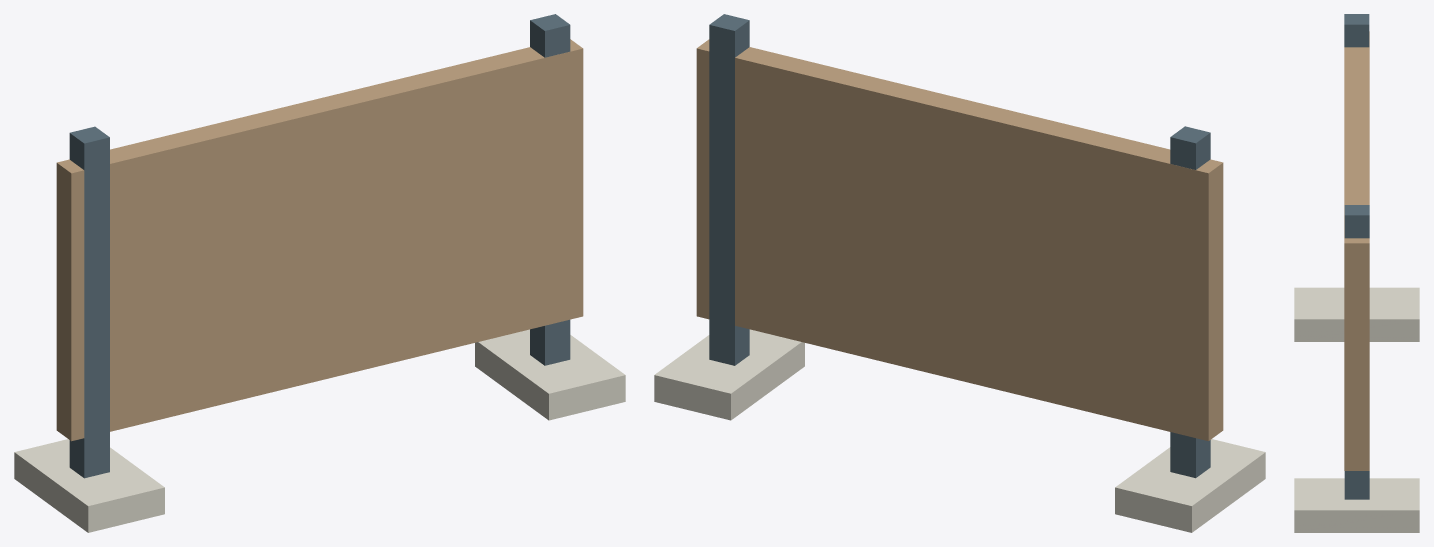
The model's file is voxel-city-districts-construction-hoarding-3fd9e550__24850.glb.
3 renders of one model, left to right at view 1: azimuth 30°, elevation 25°; view 2: azimuth 150°, elevation 25°; view 3: azimuth 270°, elevation 25°, orthographic. The views are drawn at different scales.
Parts seen in each view (by area): view 1: construction-hoarding-wood, construction-hoarding-concrete, construction-hoarding-dark; view 2: construction-hoarding-wood, construction-hoarding-concrete, construction-hoarding-dark; view 3: construction-hoarding-concrete, construction-hoarding-wood, construction-hoarding-dark.
Boxes of the visible parts, x1,y1,x2,y2 form: construction-hoarding-wood: (56,39,583,441); construction-hoarding-concrete: (14,329,625,532); construction-hoarding-dark: (69,14,570,478); construction-hoarding-wood: (696,39,1223,441); construction-hoarding-concrete: (654,329,1265,532); construction-hoarding-dark: (709,14,1210,478); construction-hoarding-concrete: (1294,287,1419,532); construction-hoarding-wood: (1344,31,1369,470); construction-hoarding-dark: (1344,14,1369,499).
Bounding box in the file's own units: 4.2 × 2.7 × 0.9998.
